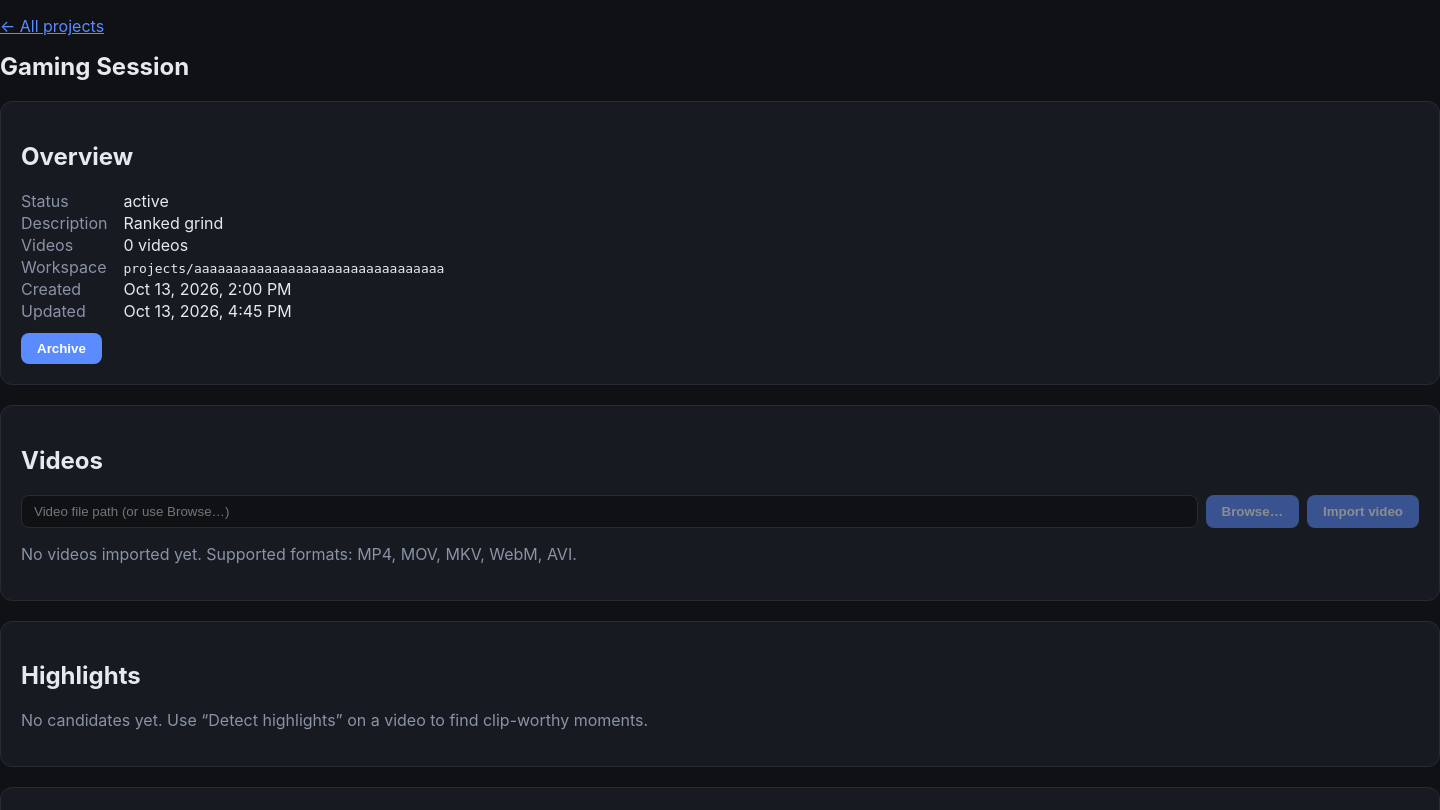
Test: ProjectDetail videos section › shows import errors
This screenshot has width=1440, height=810.
Expected: the text with test id "videos-empty" is shown, [21,544,577,564]
Type "x.txt" into the field labelled "Video file path".
click(609, 511); type("x.txt")  # box [21,494,1198,528]
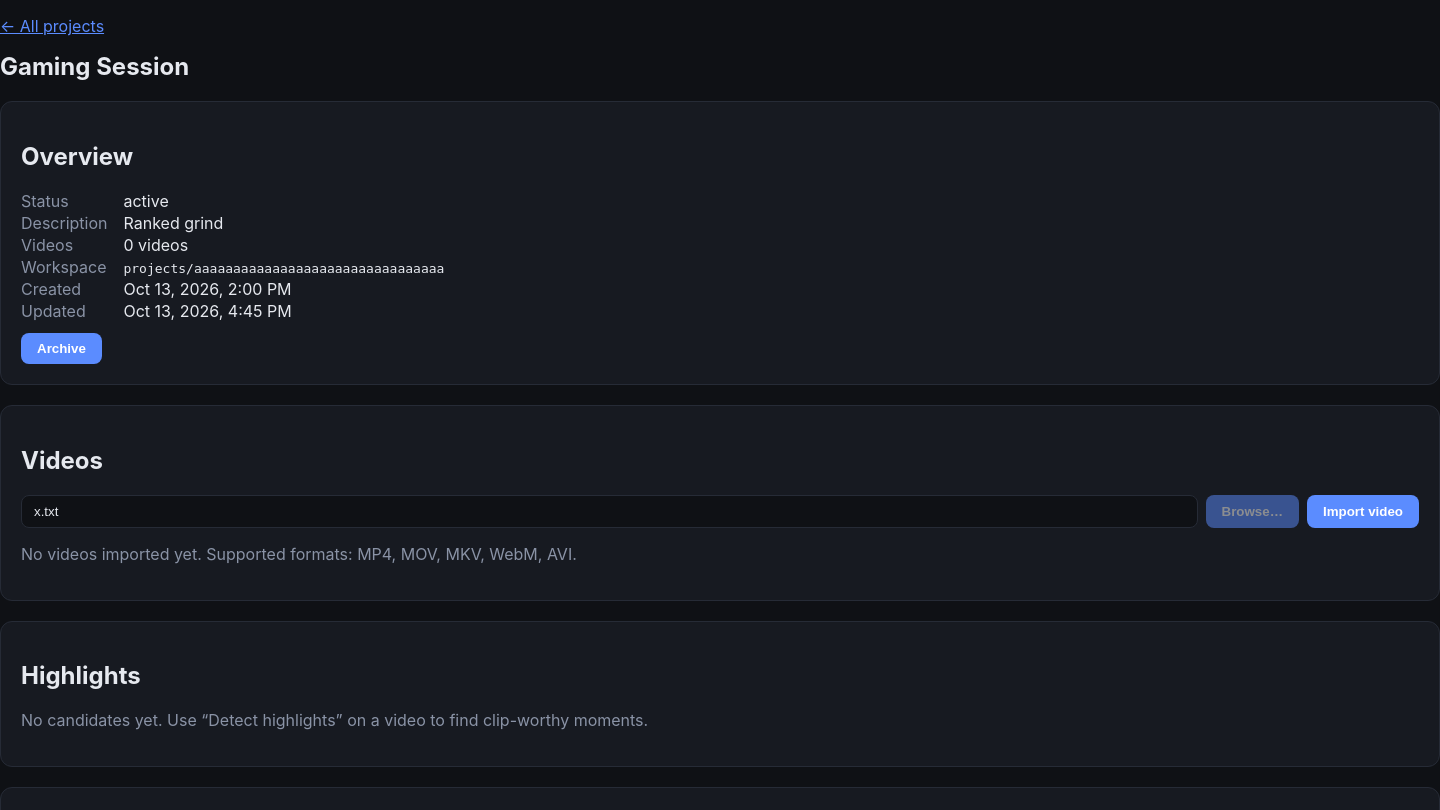
Click the button "Import video".
click(1363, 511)  # box [1307,494,1419,528]
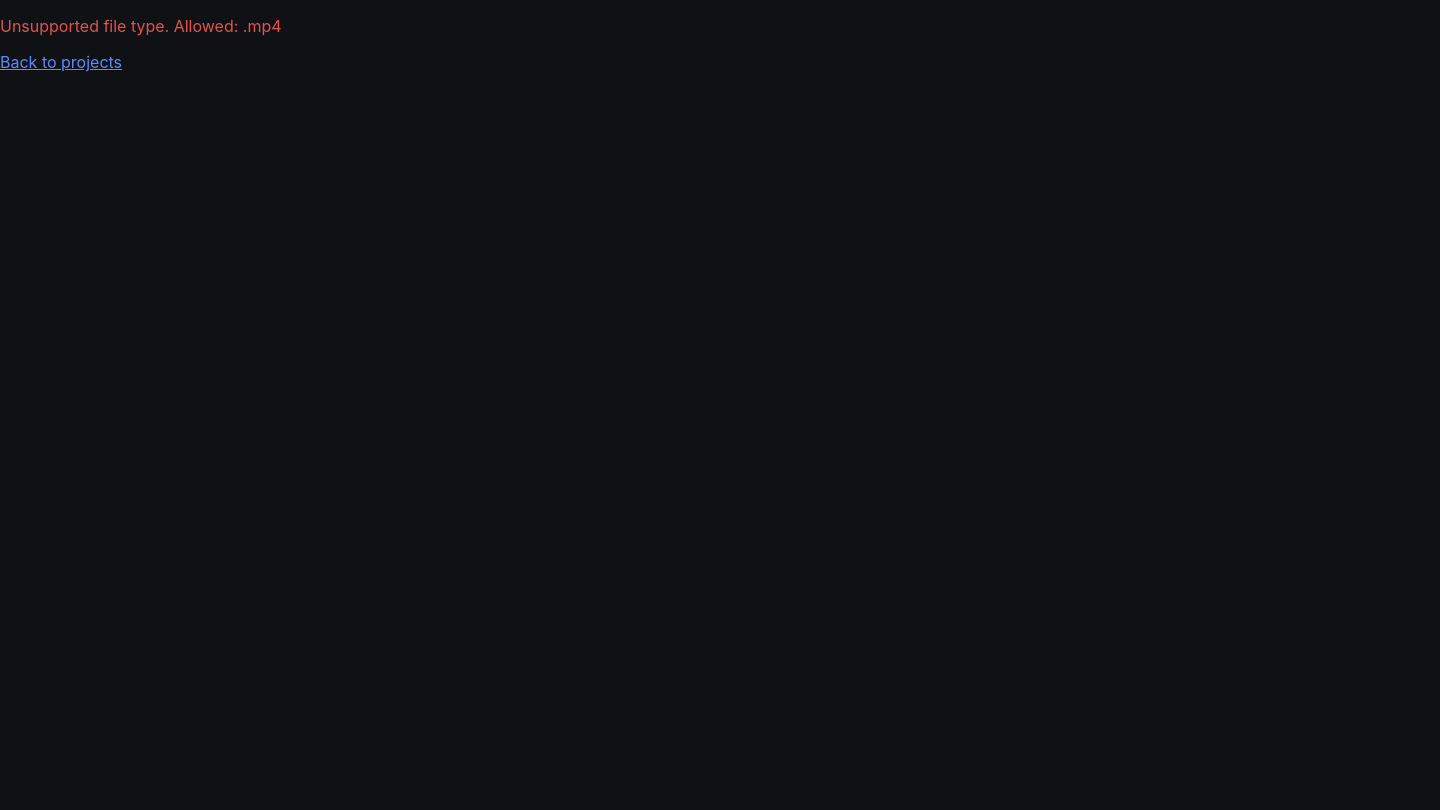
Expected: the message shows "Unsupported file type", [0,16,282,36]
